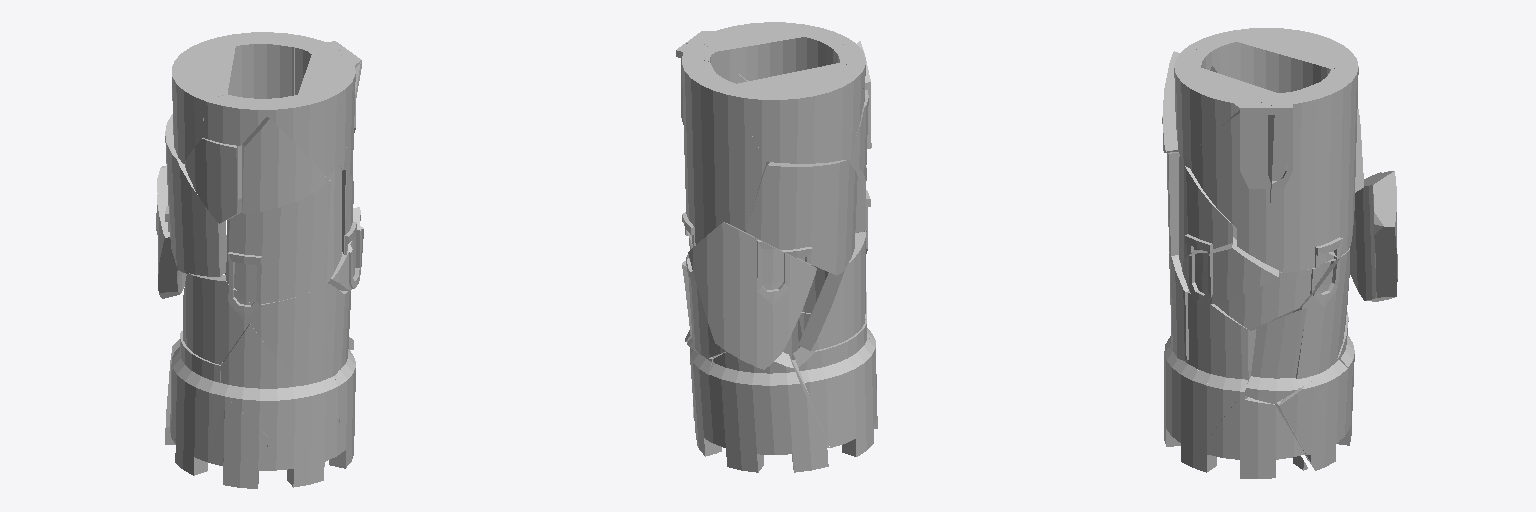
File: destruction_tower_000021.obj
3 renders of one model, left to right at view 1: azimuth 30°, elevation 25°; view 2: azimuth 150°, elevation 25°; view 3: azimuth 270°, elevation 25°, orthographic.
Parts seen in each view (by area): view 1: tower.001_cell.024_Mesh.024, tower.001_cell.028_Mesh.028, tower.001_cell.021_Mesh.021, tower.001_cell.006_Mesh.006, tower.001_cell.011_Mesh.011, tower.001_cell.002_Mesh.002, tower.001_cell.003_Mesh.003, tower.001_cell.013_Mesh.013, tower.001_cell.015_Mesh.015, tower.001_cell.009_Mesh.009, tower.001_cell.017_Mesh.017, tower.001_cell.014_Mesh.014 (+9 smaller); view 2: tower.001_cell.025_Mesh.025, tower.001_cell.017_Mesh.017, tower.001_cell.007_Mesh.007, tower.001_cell.015_Mesh.015, tower.001_cell.003_Mesh.003, tower.001_cell.005_Mesh.005, tower.001_cell.028_Mesh.028, tower.001_cell.009_Mesh.009, tower.001_cell.029_Mesh.029, tower.001_cell.012_Mesh.012, tower.001_cell.006_Mesh.006, tower.001_cell.014_Mesh.014 (+3 smaller); view 3: tower.001_cell.017_Mesh.017, tower.001_cell.020_Mesh.020, tower.001_cell.015_Mesh.015, tower.001_cell.028_Mesh.028, tower.001_cell.025_Mesh.025, tower.001_cell.030_Mesh.030, tower.001_cell_Mesh, tower.001_cell.029_Mesh.029, tower.001_cell.012_Mesh.012, tower.001_cell.016_Mesh.016, tower.001_cell.010_Mesh.010, tower.001_cell.023_Mesh.023 (+11 smaller).
Part boxes in pixels (x1,y1,x2,y2): tower.001_cell.024_Mesh.024: (226, 180, 330, 304); tower.001_cell.028_Mesh.028: (259, 54, 361, 176); tower.001_cell.021_Mesh.021: (250, 284, 345, 387); tower.001_cell.006_Mesh.006: (174, 392, 267, 488); tower.001_cell.011_Mesh.011: (267, 379, 339, 487); tower.001_cell.002_Mesh.002: (241, 117, 329, 213); tower.001_cell.003_Mesh.003: (165, 114, 226, 276); tower.001_cell.013_Mesh.013: (219, 324, 301, 436); tower.001_cell.015_Mesh.015: (172, 38, 235, 163); tower.001_cell.009_Mesh.009: (183, 273, 250, 364); tower.001_cell.017_Mesh.017: (215, 32, 320, 199); tower.001_cell.014_Mesh.014: (185, 138, 237, 223); tower.001_cell.025_Mesh.025: (688, 222, 816, 369); tower.001_cell.017_Mesh.017: (682, 55, 769, 246); tower.001_cell.007_Mesh.007: (709, 352, 829, 472); tower.001_cell.015_Mesh.015: (731, 63, 863, 163); tower.001_cell.003_Mesh.003: (746, 160, 857, 275); tower.001_cell.005_Mesh.005: (793, 319, 875, 447); tower.001_cell.028_Mesh.028: (702, 22, 851, 81); tower.001_cell.009_Mesh.009: (798, 231, 867, 350); tower.001_cell.029_Mesh.029: (690, 348, 718, 456); tower.001_cell.012_Mesh.012: (686, 254, 726, 357); tower.001_cell.006_Mesh.006: (842, 341, 877, 456); tower.001_cell.014_Mesh.014: (845, 90, 868, 178); tower.001_cell.017_Mesh.017: (1300, 65, 1358, 258); tower.001_cell.020_Mesh.020: (1188, 101, 1274, 227); tower.001_cell.015_Mesh.015: (1237, 28, 1357, 92); tower.001_cell.028_Mesh.028: (1174, 48, 1275, 158); tower.001_cell.025_Mesh.025: (1350, 171, 1397, 301); tower.001_cell.030_Mesh.030: (1191, 397, 1304, 478); tower.001_cell_Mesh: (1188, 292, 1256, 400); tower.001_cell.029_Mesh.029: (1279, 357, 1347, 470); tower.001_cell.012_Mesh.012: (1287, 248, 1349, 387); tower.001_cell.016_Mesh.016: (1245, 308, 1306, 403); tower.001_cell.010_Mesh.010: (1181, 237, 1278, 303); tower.001_cell.023_Mesh.023: (1174, 359, 1235, 466).
Bounding box in the file's own units: 45.95 × 97.05 × 54.52.